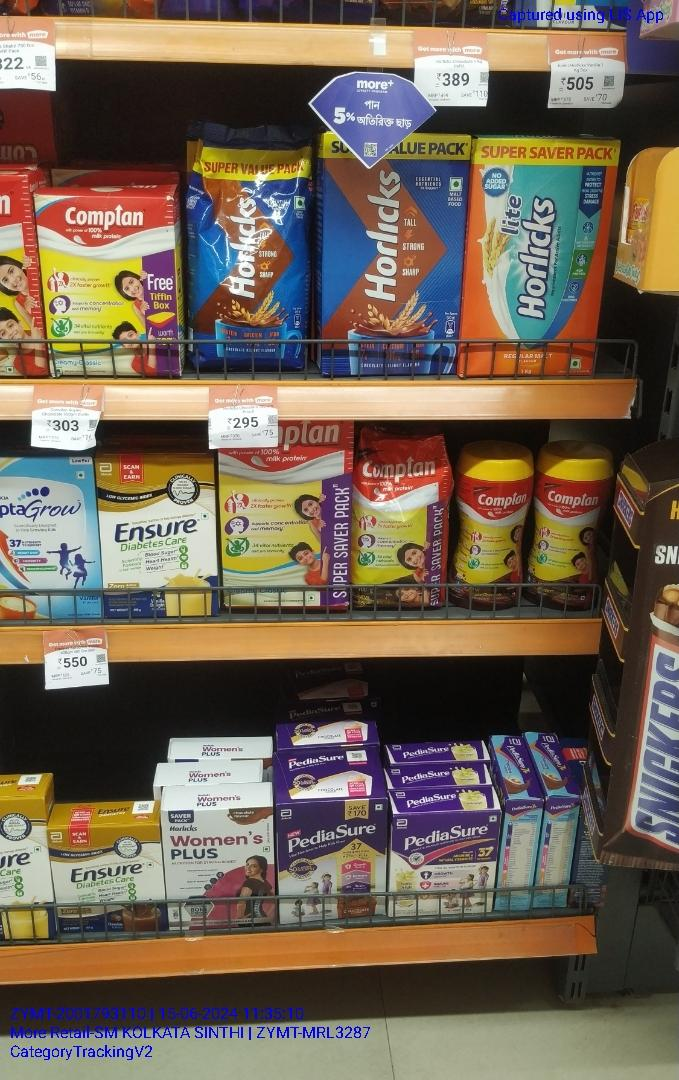COMPLAN_CHOCOLATE_500_GMS_JAR: (533, 445, 603, 611), (455, 443, 524, 610)
COMPLAN_CREAMY_CLASSIC_500_G_PACK: (44, 193, 182, 377)
COMPLAN_RC_POUCH_700_GMS_12: (355, 426, 447, 608)
HORLICK_CHOCOLATE_1_KG_PACK: (322, 167, 457, 374)
HORLICK_CHOCOLATE_750_G_POUCH: (192, 124, 308, 368)
PEDIASURE_CHOCOLATE_500_G_PACK: (279, 800, 386, 917)
